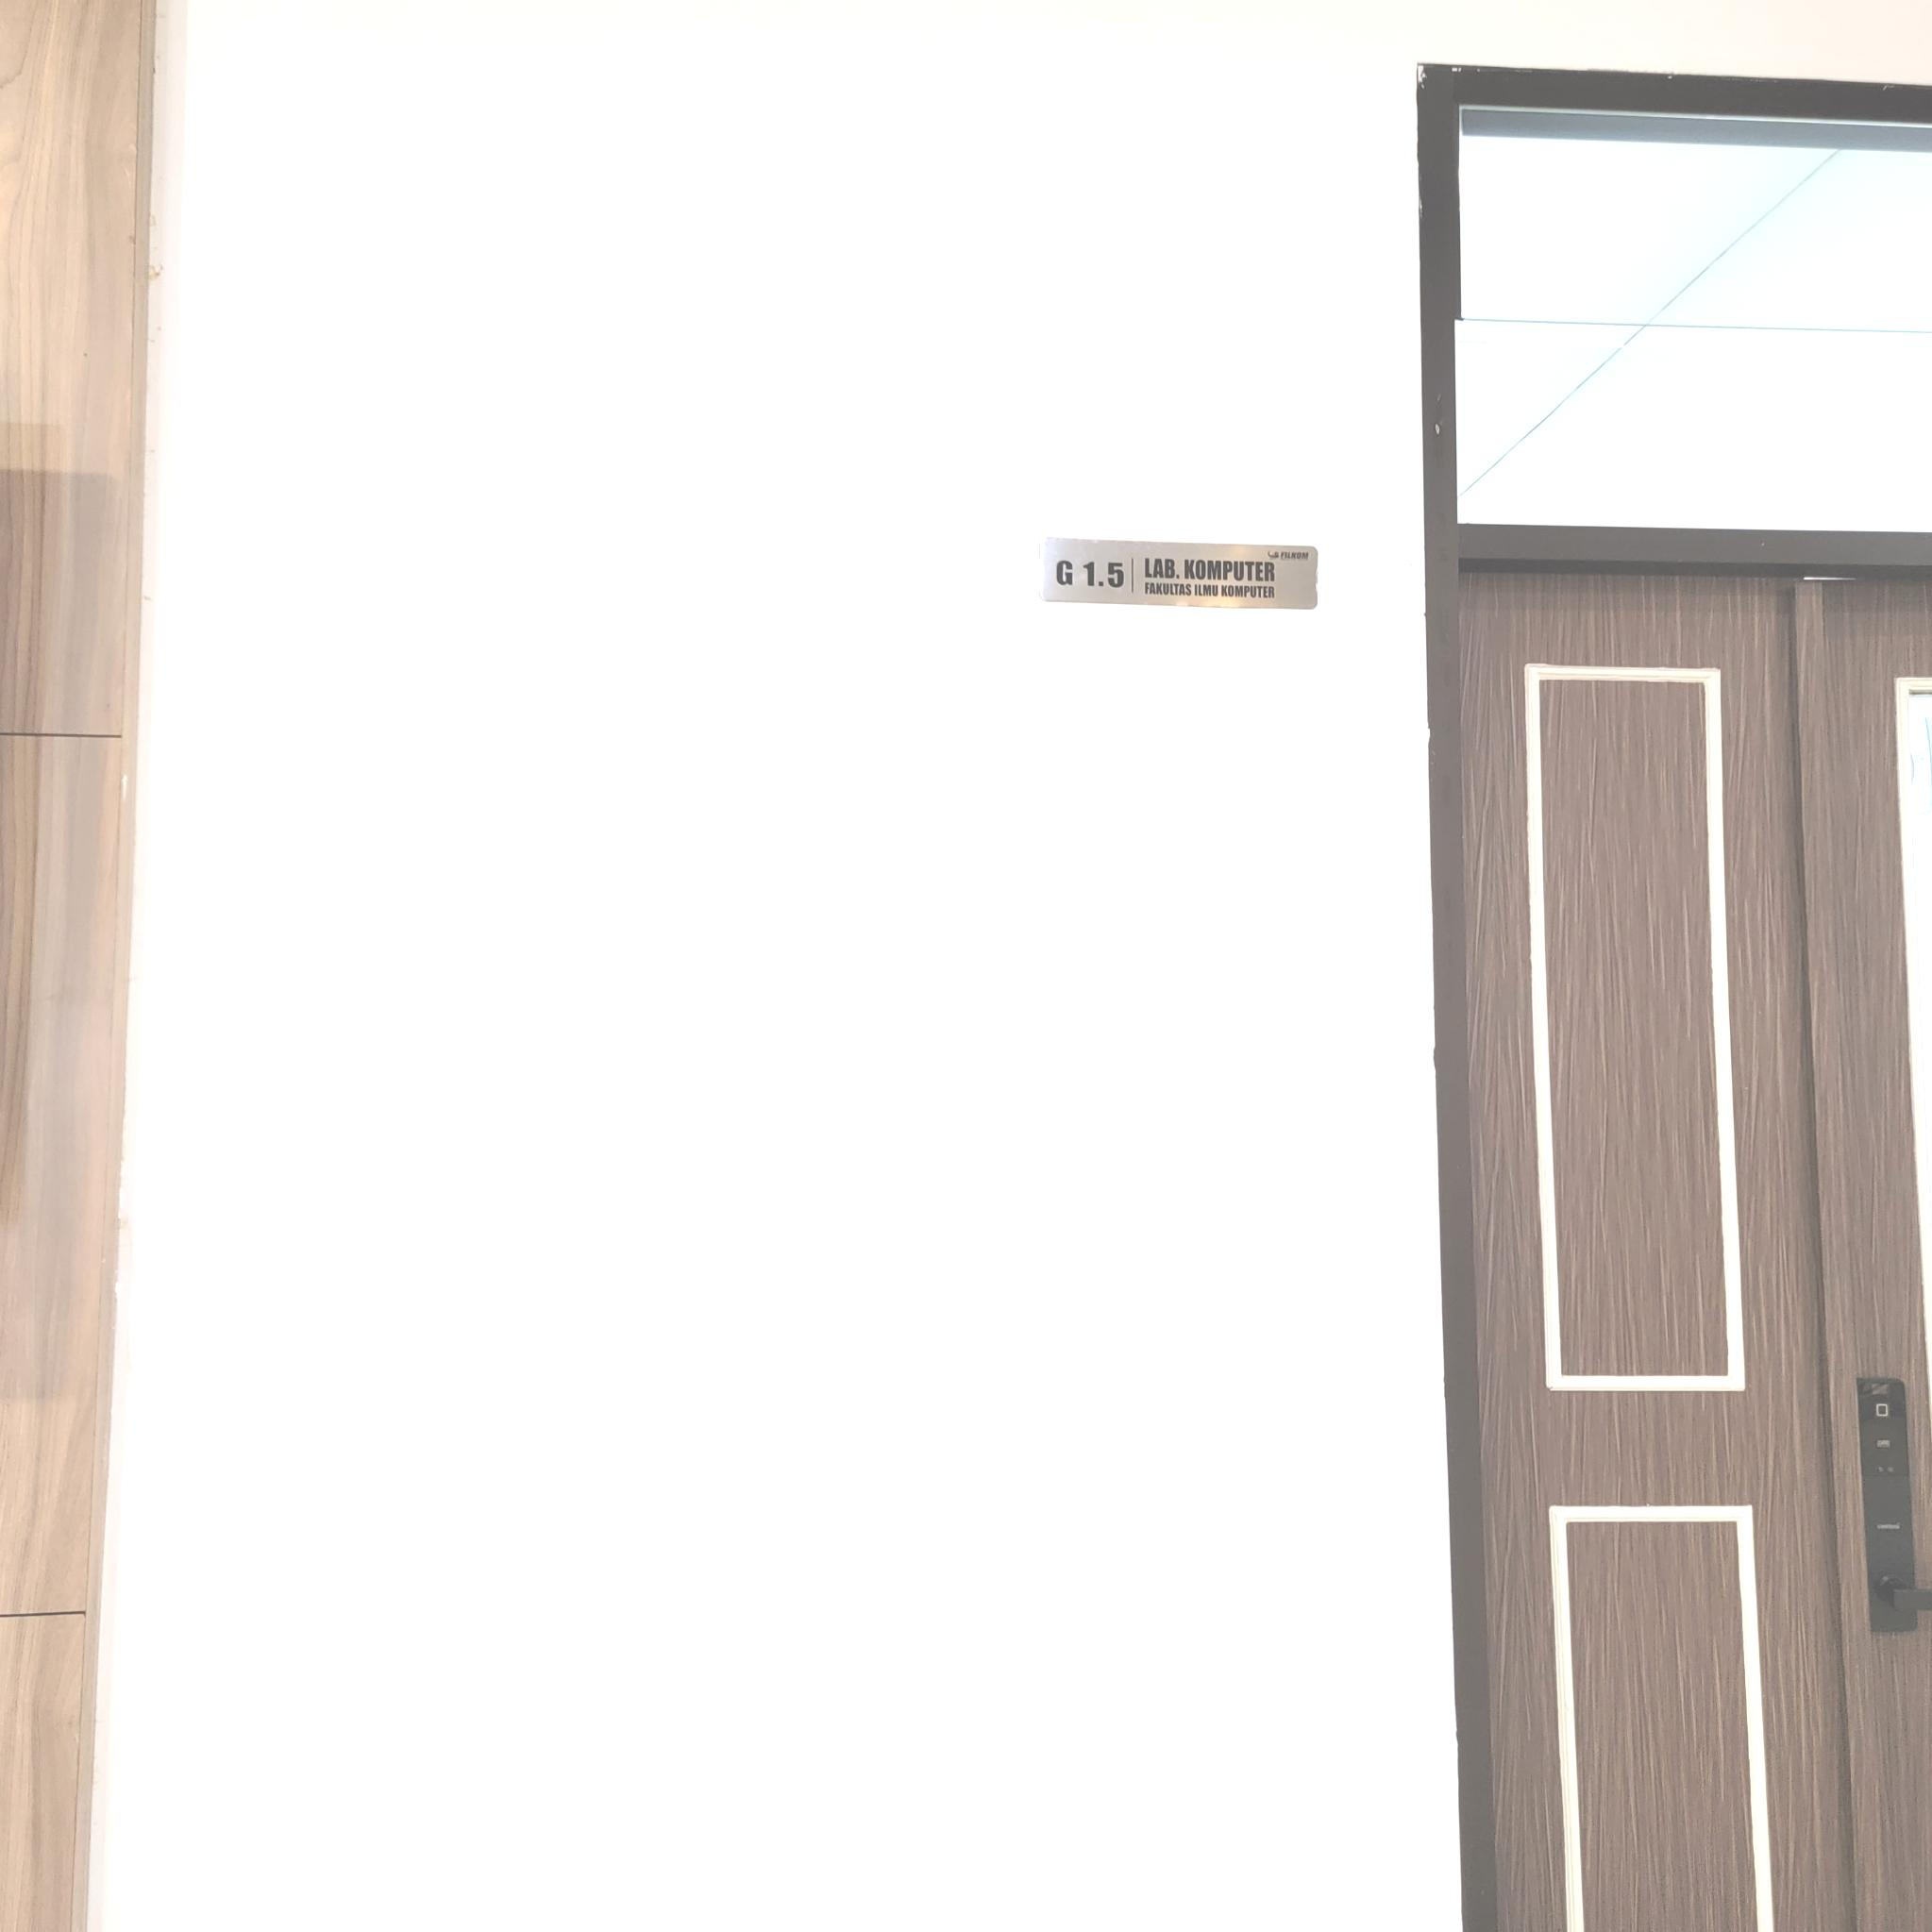plate: (1039, 534, 1318, 612)
